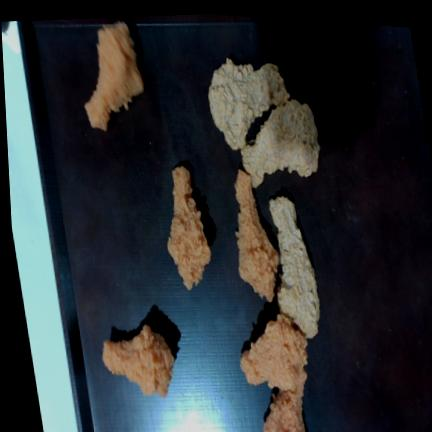chicken: (208, 58, 289, 149), (269, 196, 319, 338), (241, 100, 319, 188), (85, 22, 144, 131), (235, 169, 279, 302), (167, 166, 210, 290), (102, 324, 174, 397), (240, 314, 307, 390), (264, 371, 306, 432)
